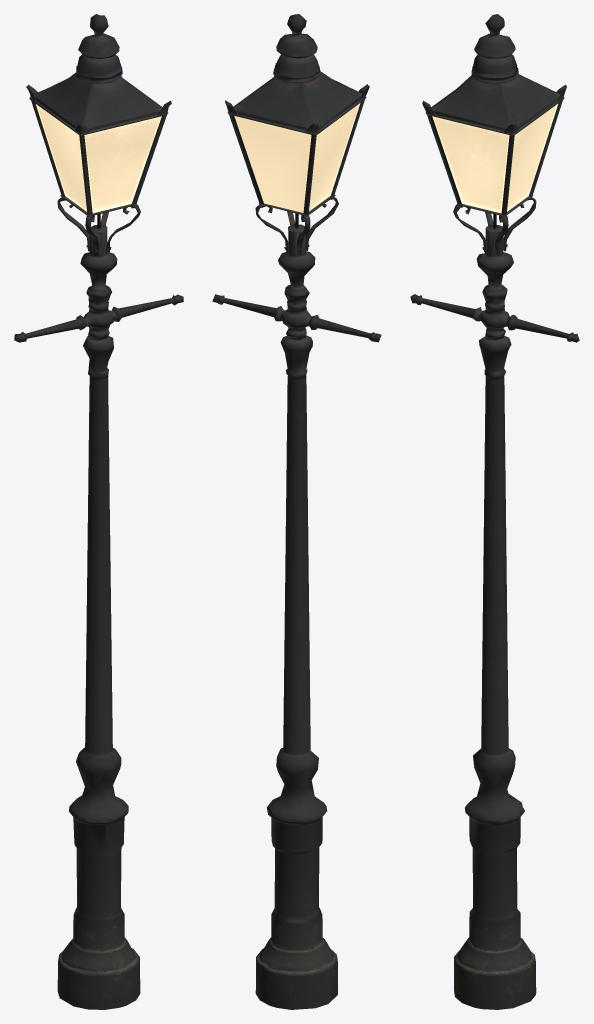
File: farol_parque.glb
The picture shows the model from 3 angles, left to right: view 1: azimuth 30°, elevation 25°; view 2: azimuth 150°, elevation 25°; view 3: azimuth 330°, elevation 25°; orthographic projection.
Visible parts, largest first — view 1: farol_parque; view 2: farol_parque; view 3: farol_parque.
Part boxes in pixels (box(x1,y1,x2,y2)): farol_parque: box(14, 14, 183, 1009); farol_parque: box(212, 14, 381, 1009); farol_parque: box(410, 14, 579, 1009).
Bounding box in the file's own units: 0.6892 × 3.87 × 0.3864.
Materials: 2 (2 with a texture image).
